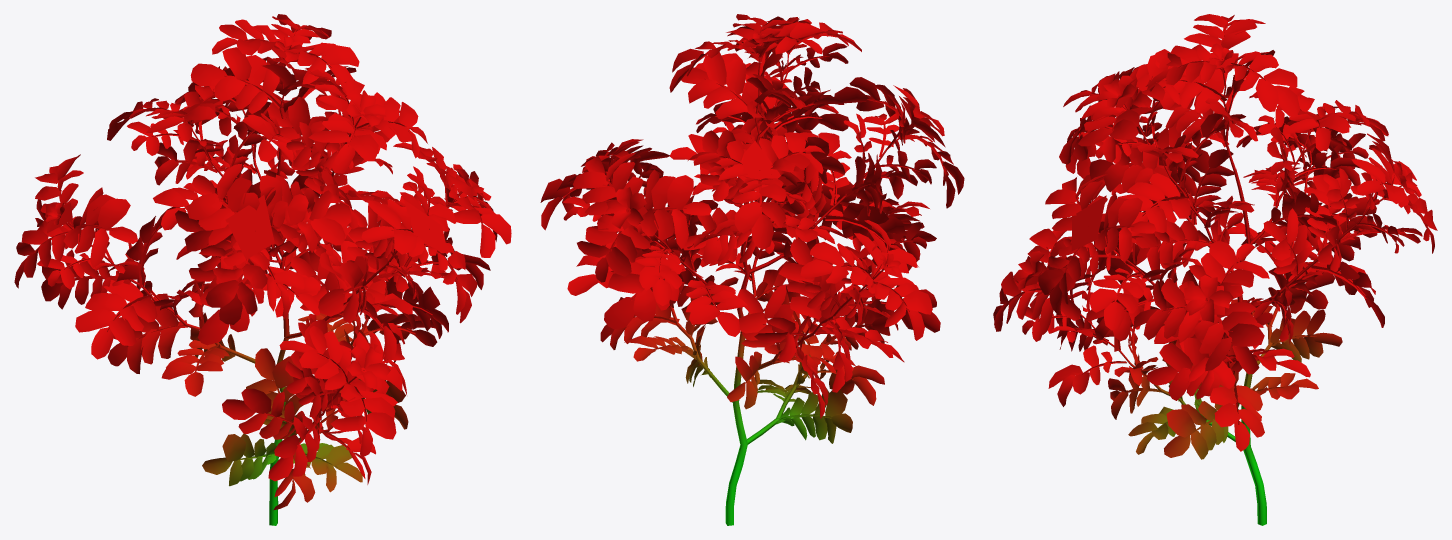
Rendered from Rose Hip_LOD2_Var1.fbx.
3 views of the same model, side by side, from view 1: azimuth 30°, elevation 25°; view 2: azimuth 150°, elevation 25°; view 3: azimuth 270°, elevation 25° (orthographic). The views are drawn at different scales.
Parts seen in each view (by area): view 1: _ykyv_Var1_LOD2; view 2: _ykyv_Var1_LOD2; view 3: _ykyv_Var1_LOD2.
Part boxes in pixels (x1=…): _ykyv_Var1_LOD2: x1=14, y1=14, x2=511, y2=525; _ykyv_Var1_LOD2: x1=540, y1=14, x2=964, y2=525; _ykyv_Var1_LOD2: x1=993, y1=14, x2=1437, y2=525.
Bounding box in the file's own units: 112 × 128 × 107.
